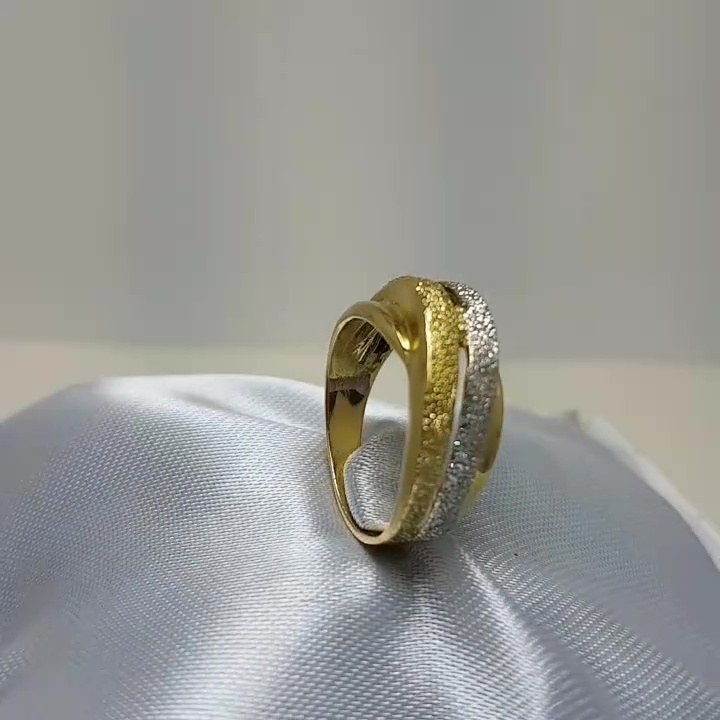Ring 5: (280, 249, 524, 573)
